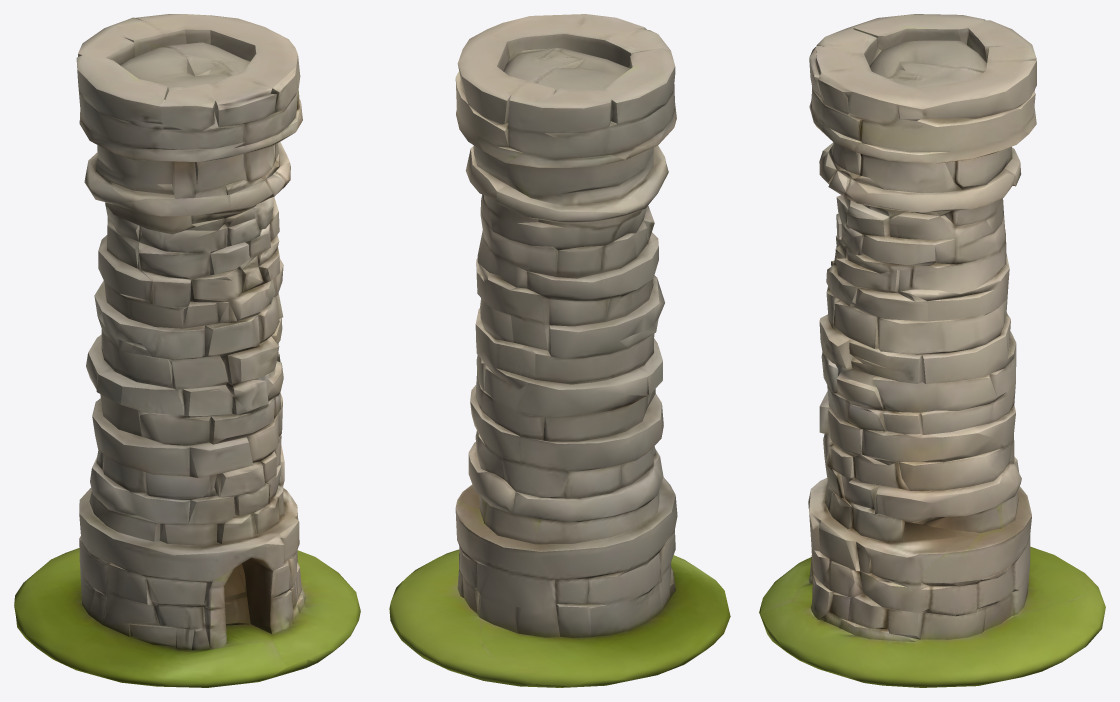
Rendered from m2SpiralTowerBg.glb.
The picture shows the model from 3 angles, left to right: view 1: azimuth 30°, elevation 25°; view 2: azimuth 150°, elevation 25°; view 3: azimuth 270°, elevation 25°; orthographic projection.
Parts seen in each view (by area): view 1: model; view 2: model; view 3: model.
Boxes of the visible parts, x1,y1,x2,y2 form: model: [14, 14, 360, 687]; model: [389, 14, 730, 687]; model: [759, 14, 1105, 687].
Size of the model in its own units: 1.05 by 1.9 by 1.07.
Materials: 1 (1 with a texture image).
